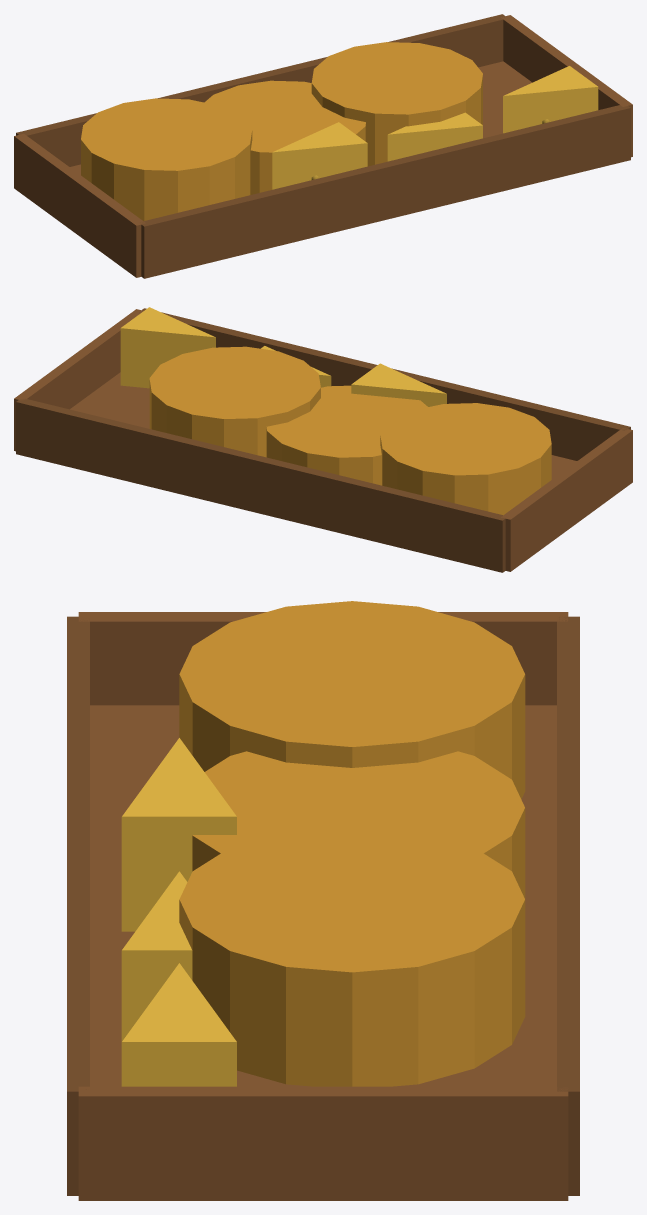
The model's file is Proc_Cheese.fbx.
3 views of the same model, one above another, from view 1: azimuth 30°, elevation 25°; view 2: azimuth 150°, elevation 25°; view 3: azimuth 270°, elevation 25° (orthographic). The views are drawn at different scales.
Visible parts, largest first — view 1: Proc_Cheese__Stack, Proc_Cheese; view 2: Proc_Cheese__Stack, Proc_Cheese; view 3: Proc_Cheese__Stack, Proc_Cheese.
Part boxes in pixels (x1,y1,x2,y2): Proc_Cheese__Stack: (14,14,632,278); Proc_Cheese: (204,80,482,194); Proc_Cheese__Stack: (14,307,632,572); Proc_Cheese: (261,346,427,485); Proc_Cheese__Stack: (67,601,579,1200); Proc_Cheese: (121,751,525,1041).
Size of the model in its own units: 0.398 by 0.053 by 0.178.
